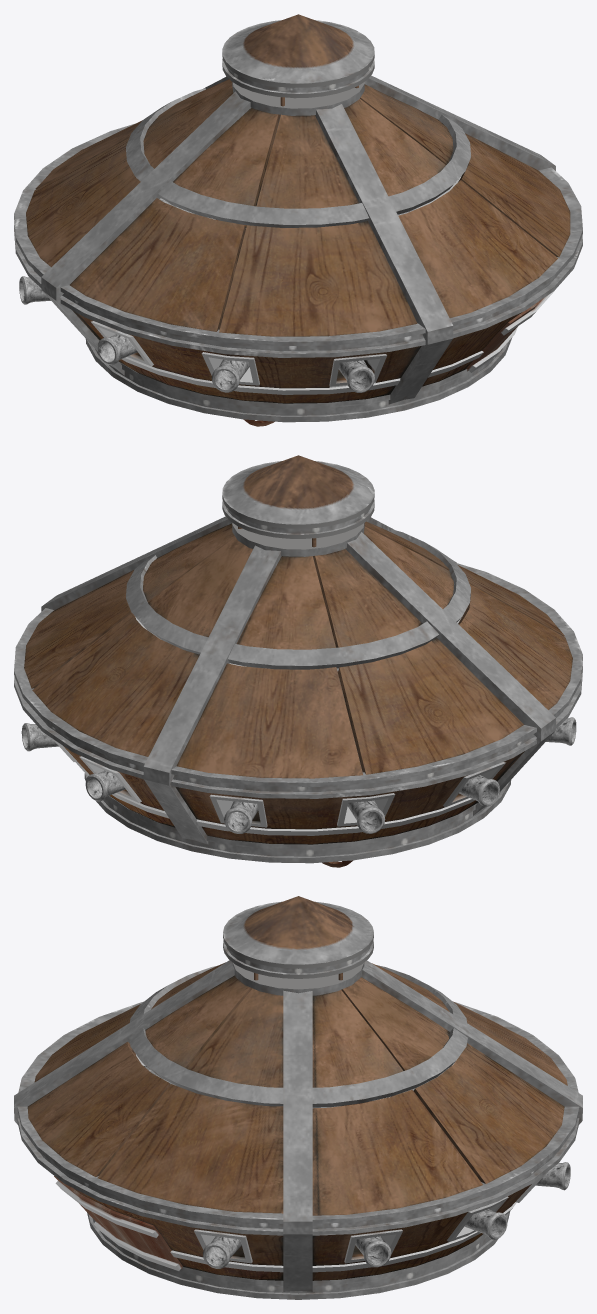
File: davidtank.glb
The picture shows the model from 3 angles, top to bottom: view 1: azimuth 30°, elevation 25°; view 2: azimuth 150°, elevation 25°; view 3: azimuth 270°, elevation 25°; orthographic projection.
Parts seen in each view (by area): view 1: wood_2_low, wood_1_low, metal_1_low, metal_3_low, wood_3_low, wood_6_low, top_low, metal_2_low, metal_4_low, wood_7_low, hole_low, canon_7_low (+3 smaller); view 2: wood_3_low, wood_4_low, metal_1_low, metal_3_low, wood_2_low, wood_5_low, top_low, metal_2_low, metal_4_low, wood_8_low, hole_low, canon_4_low (+5 smaller); view 3: wood_1_low, wood_4_low, metal_1_low, metal_3_low, top_low, metal_2_low, wood_7_low, metal_4_low, wood_8_low, wood_3_low, wood_2_low, hole_low (+4 smaller).
Boxes of the visible parts, x1,y1,x2,y2 form: wood_2_low: (69, 107, 417, 336); wood_1_low: (344, 84, 570, 317); metal_1_low: (41, 75, 555, 404); metal_3_low: (14, 123, 582, 357); wood_3_low: (26, 79, 233, 267); wood_6_low: (72, 310, 421, 403); top_low: (222, 14, 374, 97); metal_2_low: (126, 88, 470, 227); metal_4_low: (85, 337, 512, 422); wood_7_low: (422, 290, 554, 386); hole_low: (232, 82, 364, 143); canon_7_low: (211, 359, 249, 392); wood_3_low: (176, 549, 523, 778); wood_4_low: (24, 523, 252, 756); metal_1_low: (41, 516, 555, 844); metal_3_low: (14, 563, 582, 798); wood_2_low: (363, 521, 572, 709); wood_5_low: (175, 751, 524, 844); top_low: (222, 455, 374, 538); metal_2_low: (126, 529, 470, 669); metal_4_low: (84, 666, 511, 863); wood_8_low: (51, 738, 175, 827); hole_low: (232, 523, 364, 564); canon_4_low: (347, 800, 385, 833); wood_1_low: (27, 975, 283, 1213); wood_4_low: (312, 977, 564, 1215); metal_1_low: (14, 960, 582, 1291); metal_3_low: (17, 1001, 579, 1235); top_low: (223, 896, 373, 978); metal_2_low: (129, 965, 467, 1107); wood_7_low: (54, 1176, 283, 1280); metal_4_low: (87, 1107, 510, 1299); wood_8_low: (312, 1172, 547, 1280); wood_3_low: (372, 963, 567, 1085); wood_2_low: (34, 962, 225, 1082); hole_low: (232, 963, 364, 995).
Bounding box in the file's own units: 0.1012 × 0.0682 × 0.1008.
Materials: 2 (2 with a texture image).
